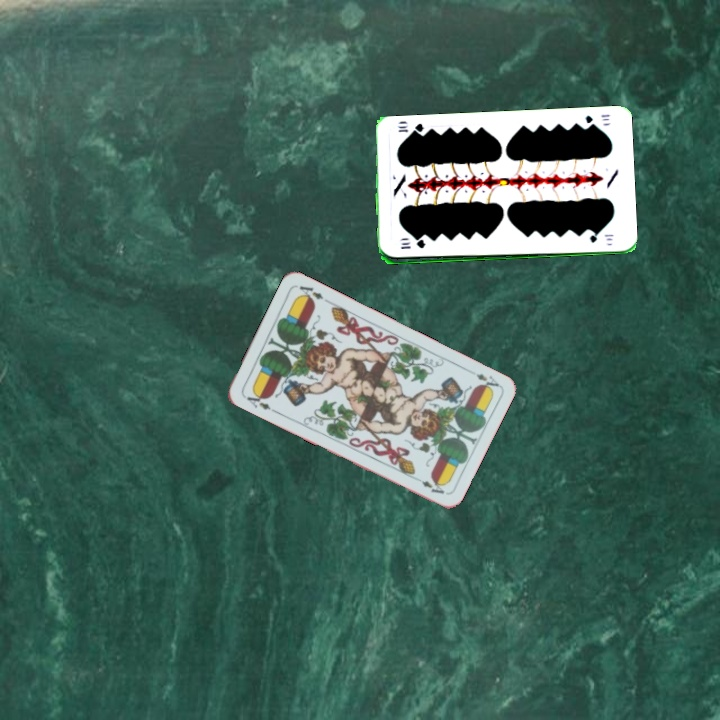EA: (240, 387, 278, 415), (472, 369, 502, 394)
G10: (581, 110, 612, 129), (397, 238, 428, 251)
